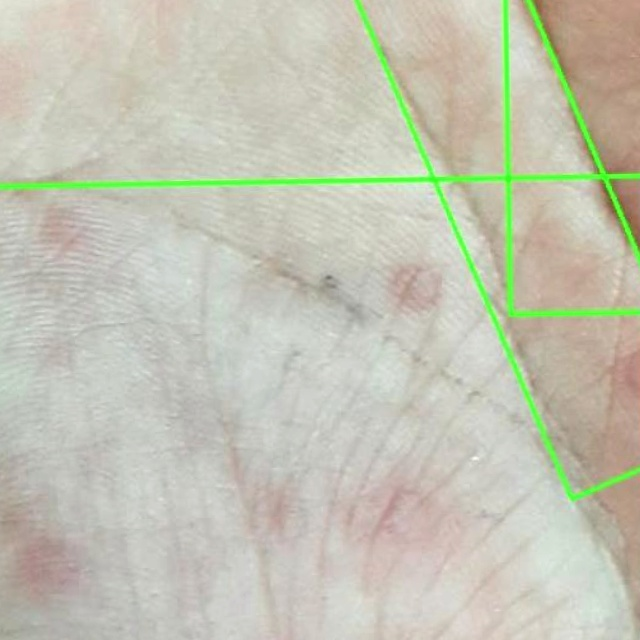Contact Dermatitis: (0, 175, 639, 639), (358, 0, 639, 499)
